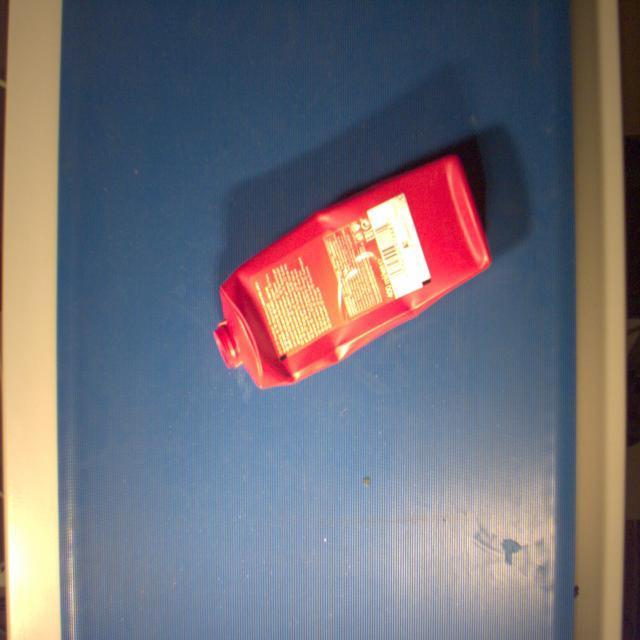HDPE Plastic: (209, 151, 497, 395)
